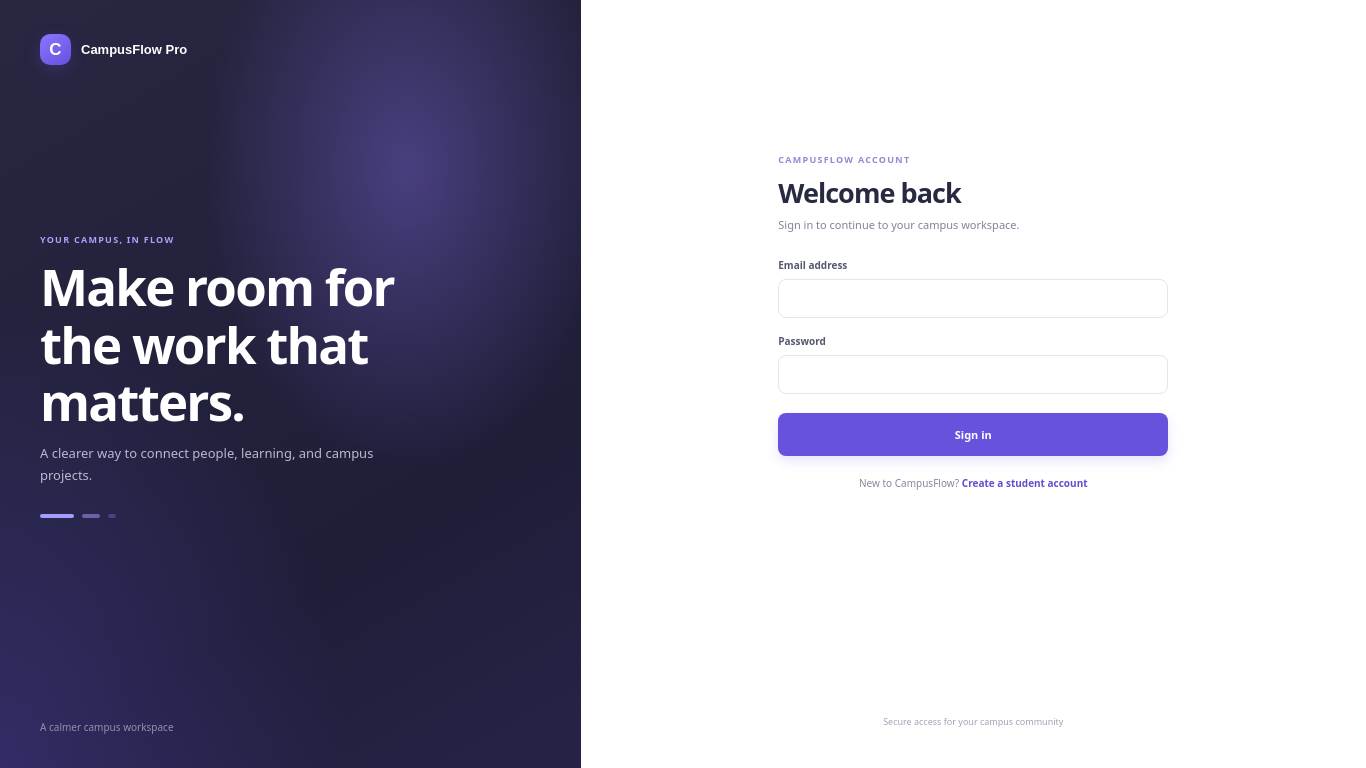
Test: authentication pages and session › shows faculty directory navigation and hides student-only links
Type "faculty@example.edu" into the field labelled "Email address" at (973, 298), box x1=778 y1=279 x2=1168 y2=318
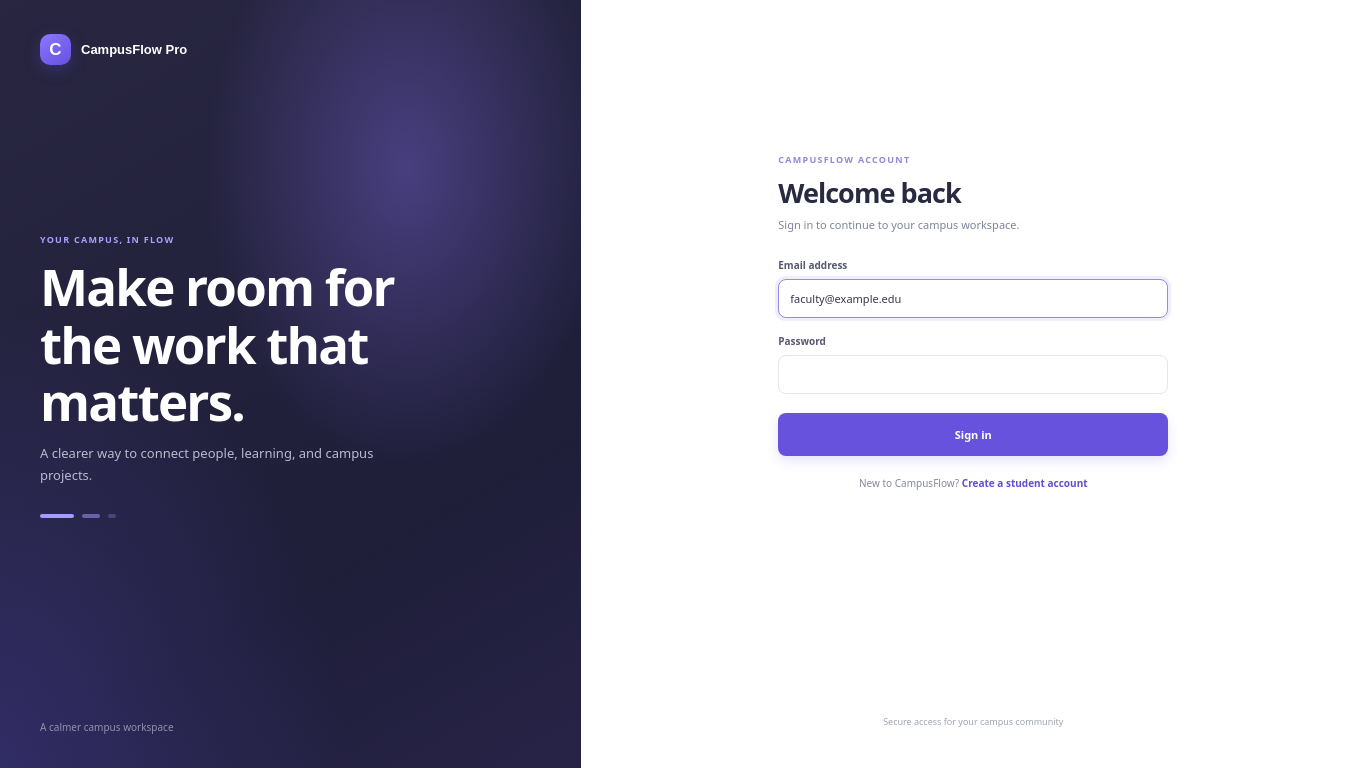
Type "faculty-password" into the password field labelled "Password" at (973, 374), box x1=778 y1=355 x2=1168 y2=394
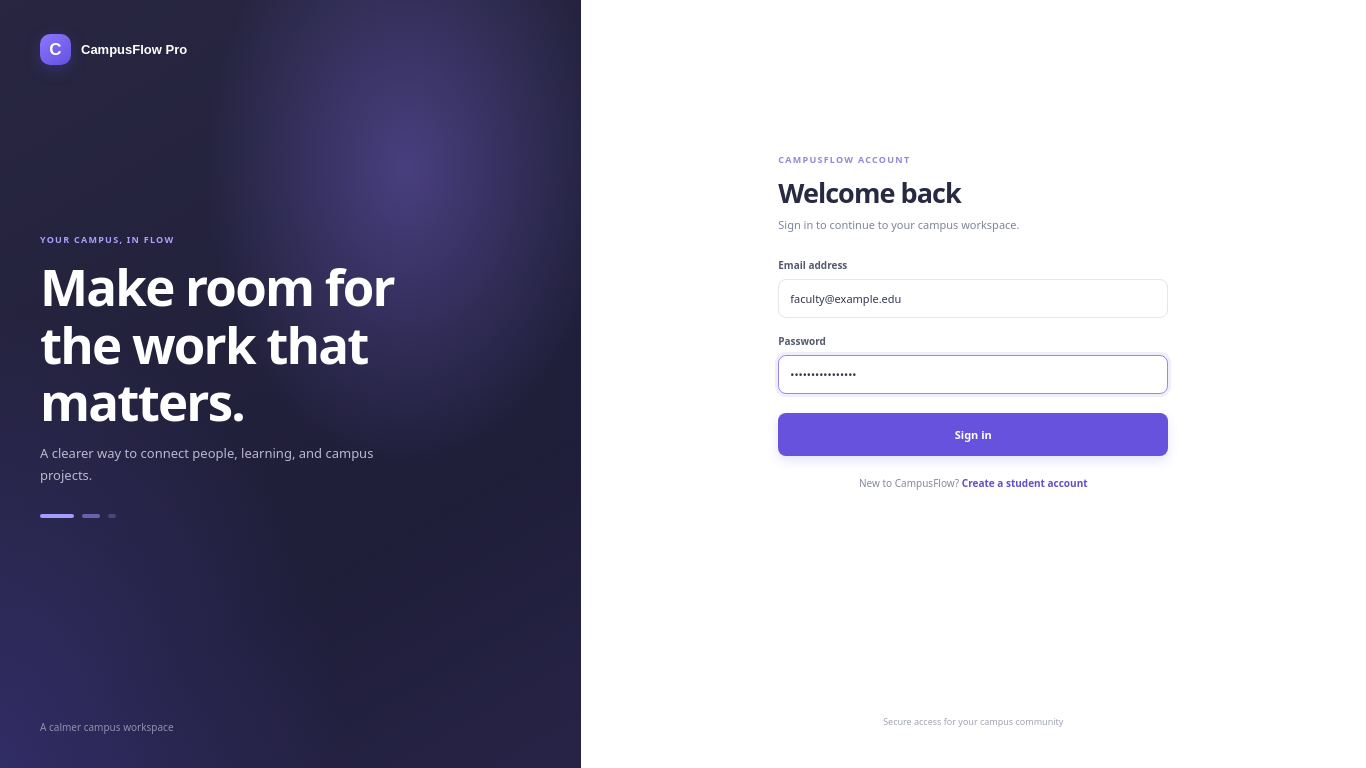
Click the button "Sign in" at (973, 434), box x1=778 y1=413 x2=1168 y2=456
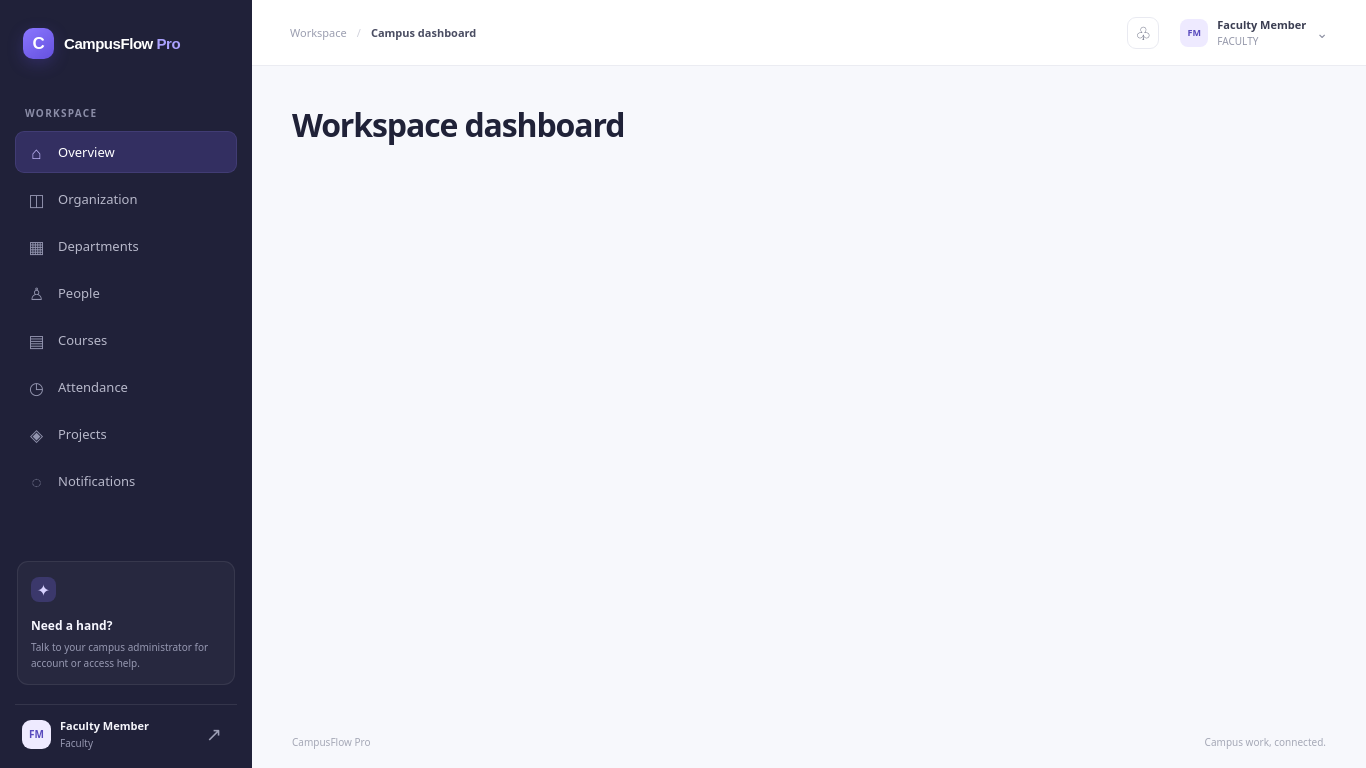
Expected: the link "♙ People" is shown, x1=29 y1=282 x2=100 y2=304
